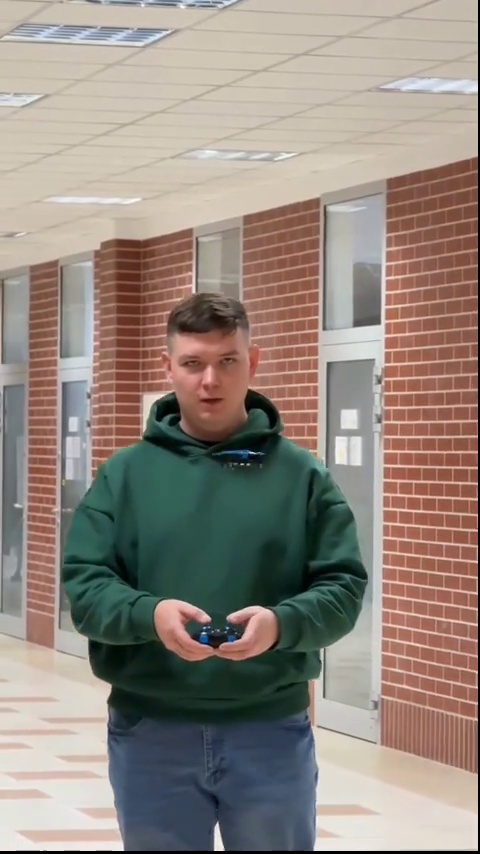drone: (210, 449, 269, 471)
no vest: (69, 296, 362, 833)
